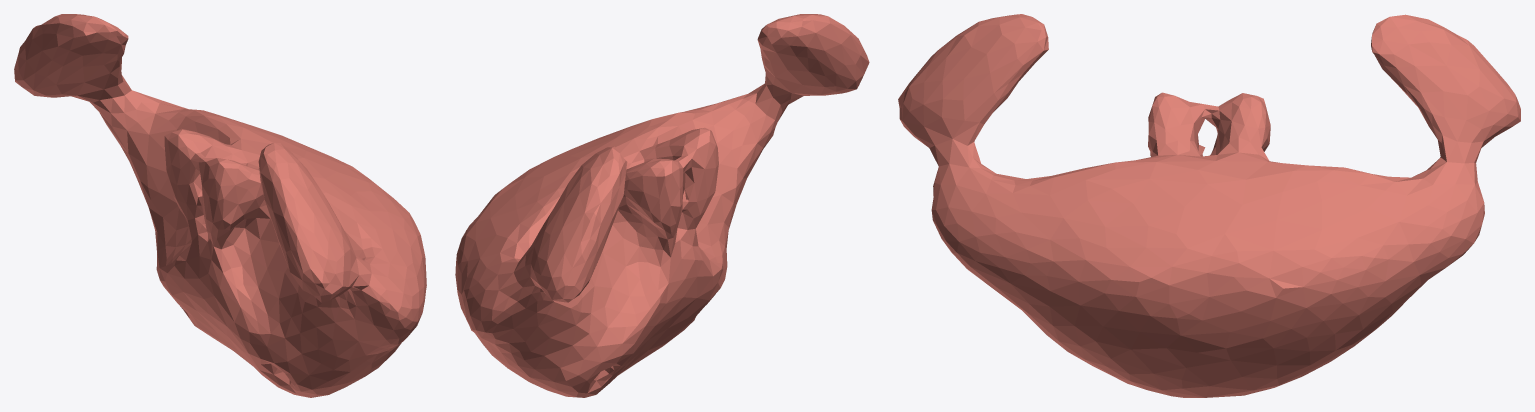
3 renders of one model, left to right at view 1: azimuth 30°, elevation 25°; view 2: azimuth 150°, elevation 25°; view 3: azimuth 270°, elevation 25°, orthographic. The views are drawn at different scales.
Visible parts, largest first — view 1: 331.obj; view 2: 331.obj; view 3: 331.obj.
Boxes of the visible parts, x1,y1,x2,y2 form: 331.obj: [14, 14, 426, 397]; 331.obj: [455, 14, 869, 397]; 331.obj: [898, 14, 1520, 397].
Size of the model in its own units: 1108 by 1481 by 2571.
